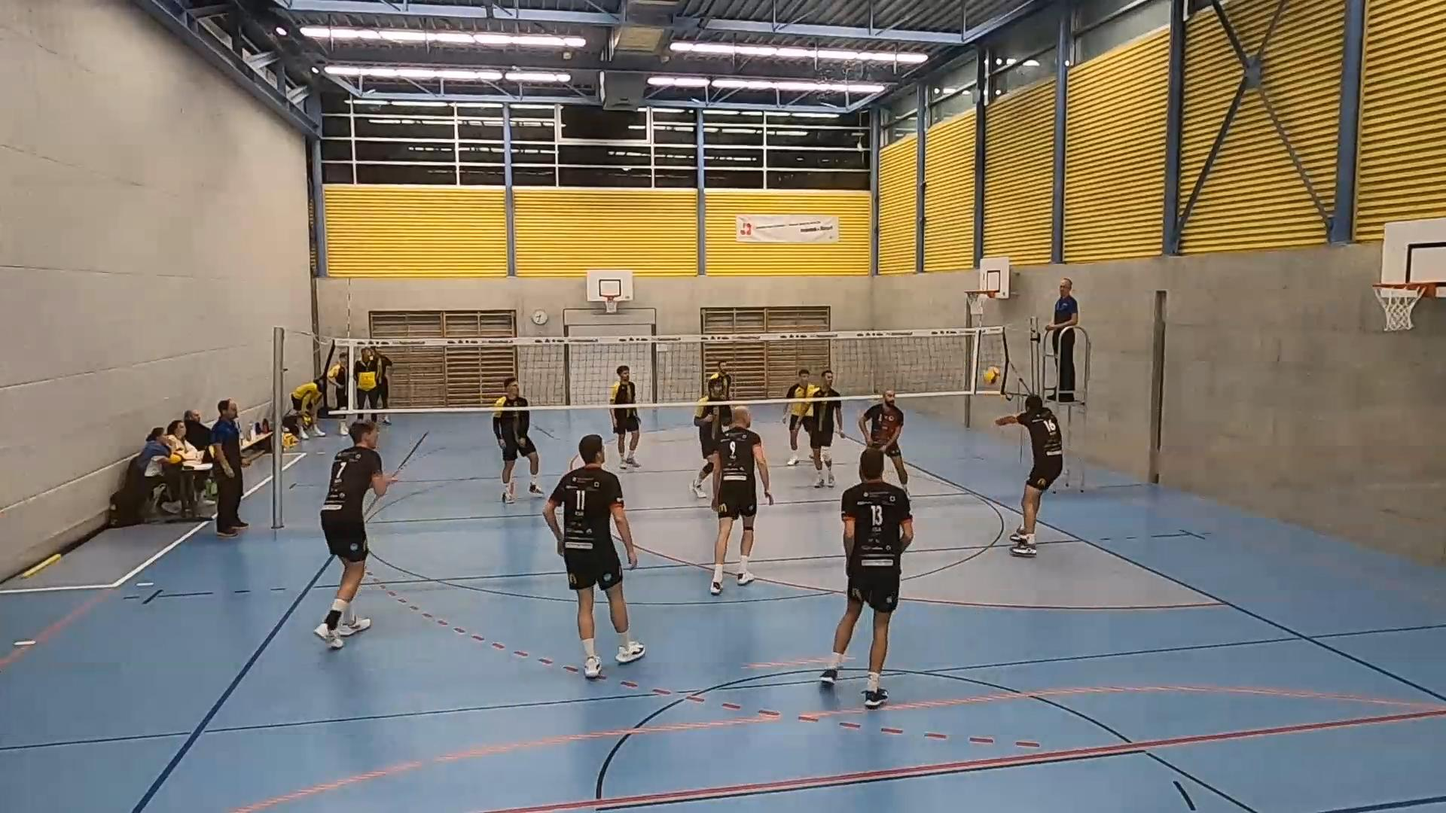ricezione: (987, 398, 1067, 567)
